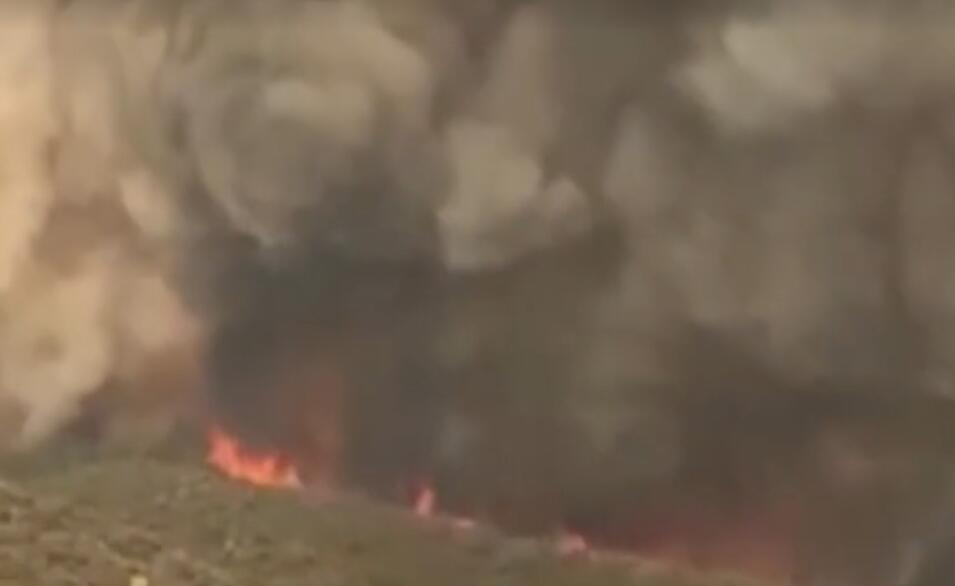fire: (195, 417, 308, 495)
yanwu: (9, 1, 954, 440)
